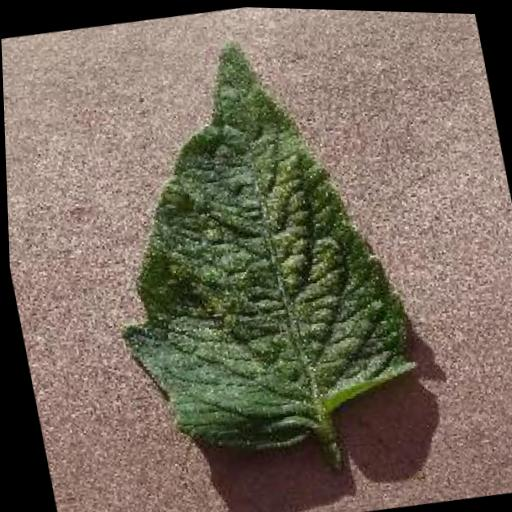Spider Mites: (68, 16, 427, 470)
